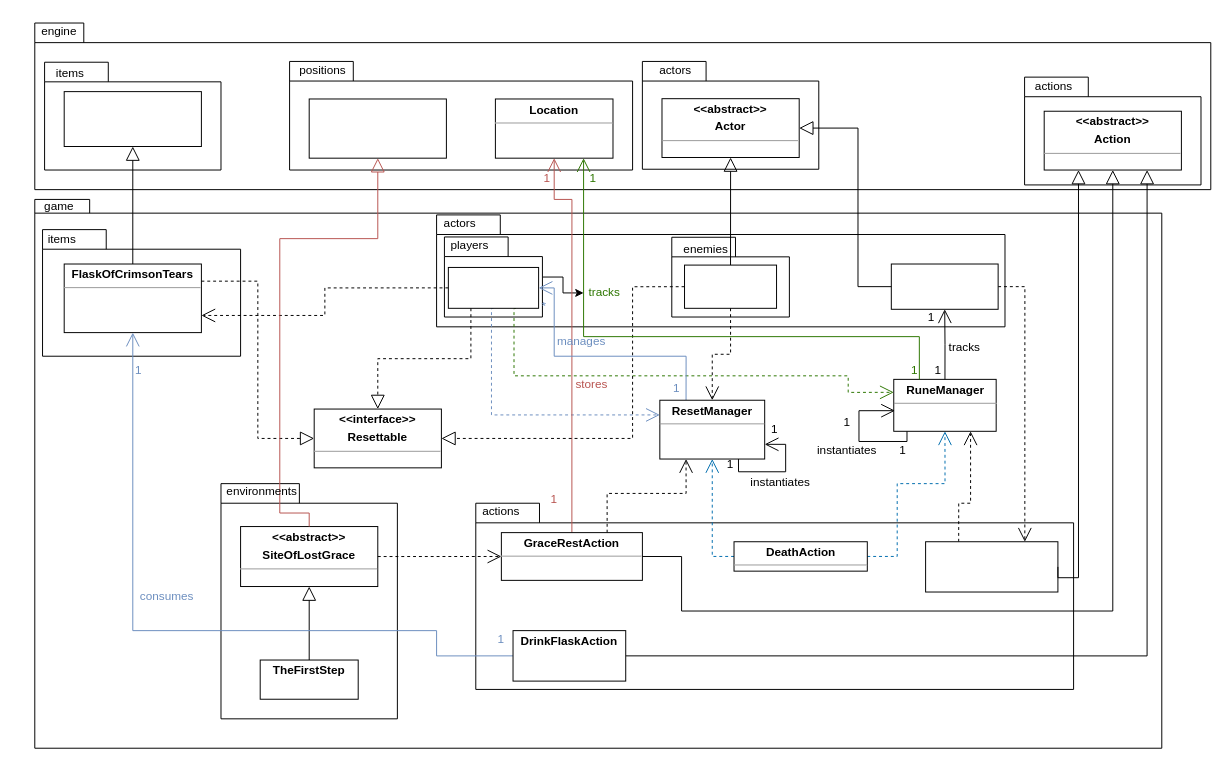
This 1228x765 diagram has some shape labels left out. Here are the shapes that lost their labels. From the top down, the centre of each, then its label:
the point at 132,119: <<abstract>> Item
the point at 377,128: <<abstract>> Ground
the point at 493,287: <<abstract>> Player
the point at 730,286: <<abstract>> Enemy
the point at 944,286: DroppedRunes
the point at 991,566: RecoverRunesAction
